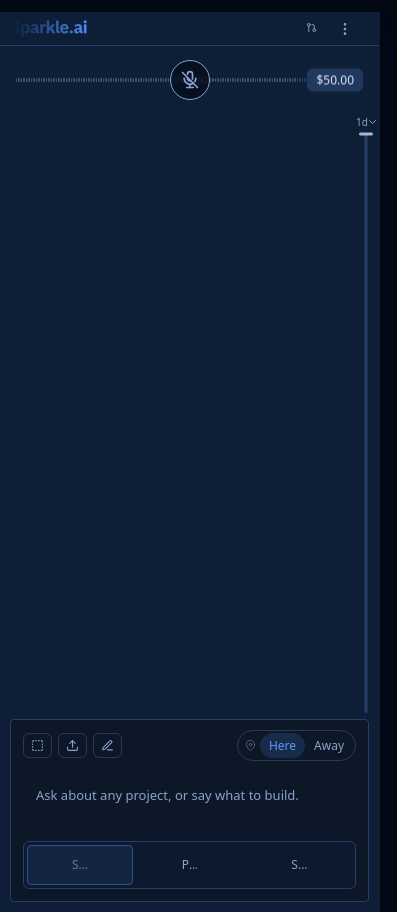
the @-picker offers beads as well as agents › writes the bead's title into the composer, terminated by a space
Type "@nota" into the text box named "Message" at [190, 804], box [23,775,356,833]
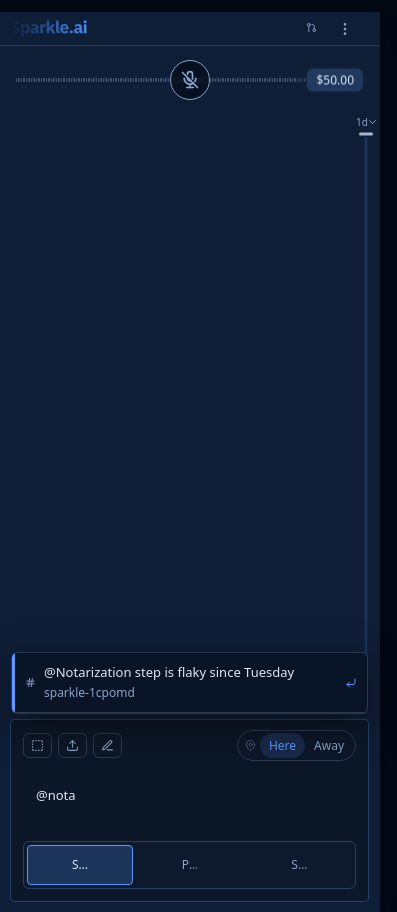
Now the option with test id "concierge-mention-option" is shown
Press the mouse on the option with test id "concierge-mention-option" at [190, 683], box [12,653,367,713]
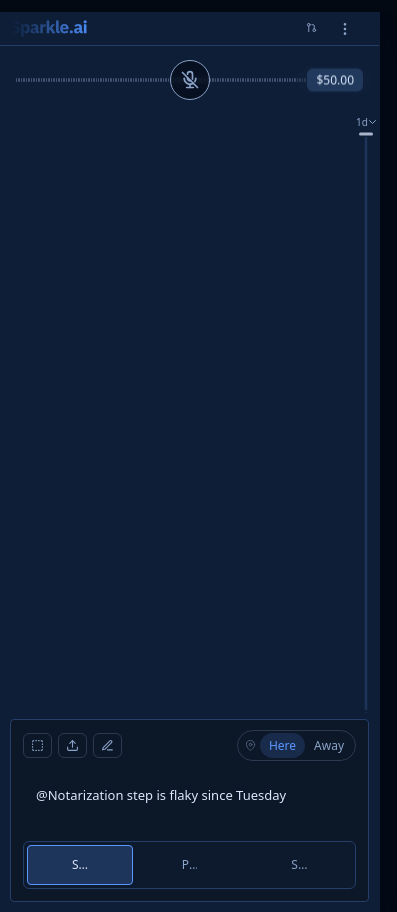
Now no options with test id "concierge-mention-option" are shown
